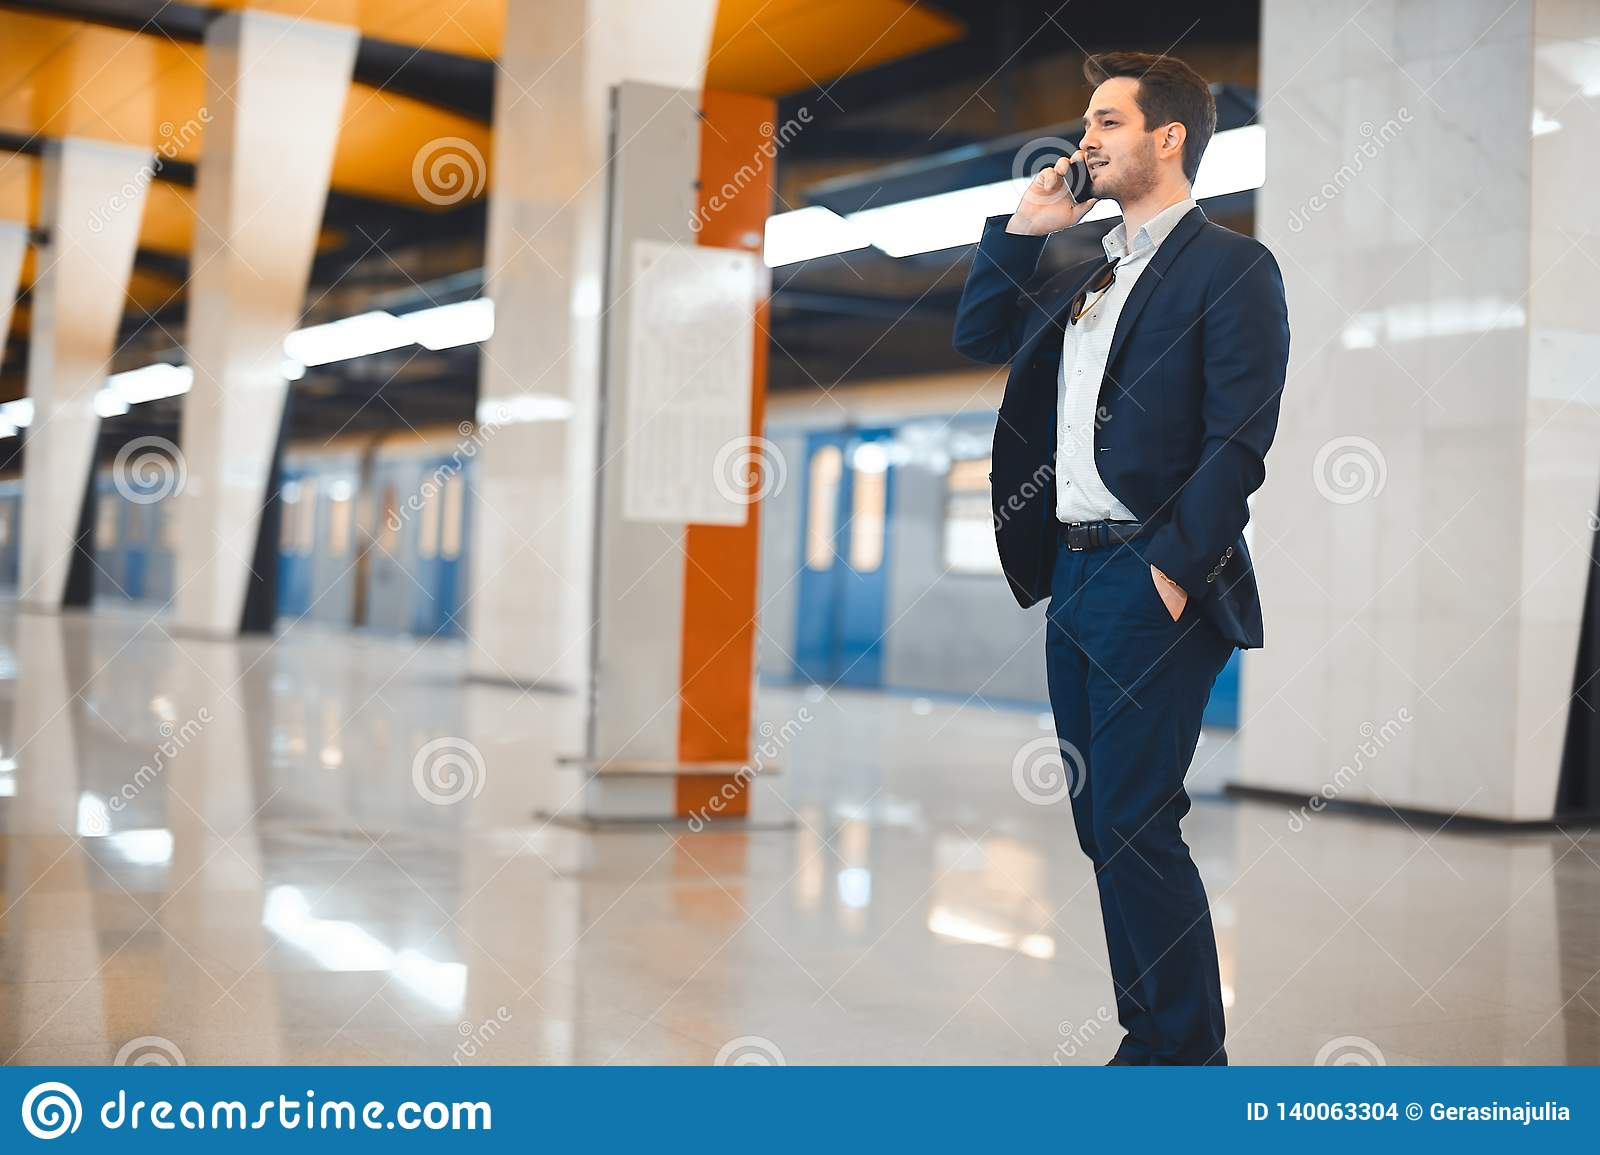talk: (1020, 102, 1130, 237)
